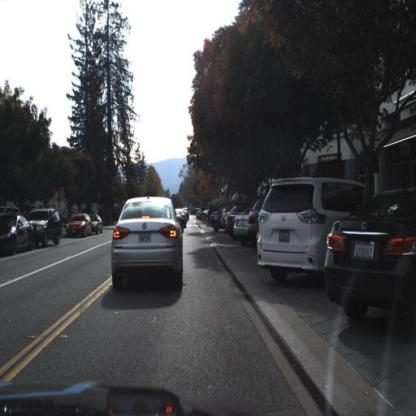car: (319, 177, 416, 337), (254, 172, 327, 286), (259, 175, 324, 285), (111, 201, 184, 297), (28, 205, 66, 250), (1, 216, 35, 248), (35, 209, 62, 247), (65, 213, 93, 241), (66, 213, 91, 239), (235, 213, 250, 241), (91, 216, 104, 234)
pedestrian: (47, 209, 57, 245)
